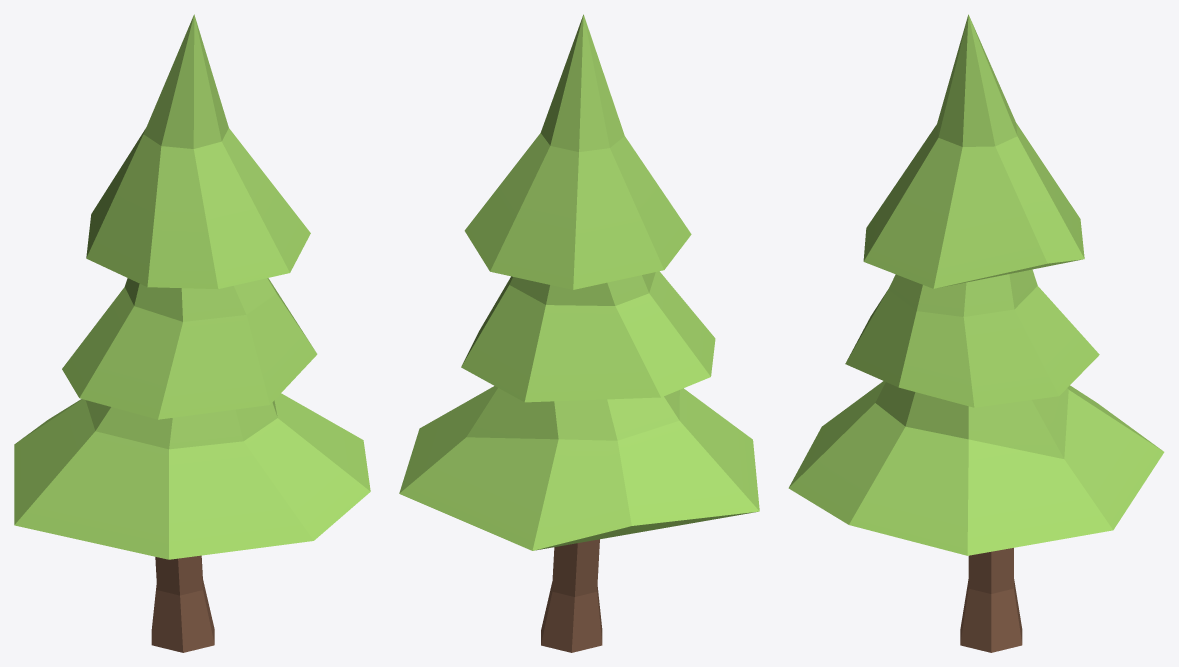
File: tree_2.FBX
The picture shows the model from 3 angles, left to right: view 1: azimuth 30°, elevation 25°; view 2: azimuth 150°, elevation 25°; view 3: azimuth 270°, elevation 25°; orthographic projection. The views are drawn at different scales.
Visible parts, largest first — view 1: tree_2; view 2: tree_2; view 3: tree_2.
Part boxes in pixels (x1,y1,x2,y2): tree_2: [14, 14, 370, 652]; tree_2: [399, 14, 759, 652]; tree_2: [788, 14, 1164, 652].
Size of the model in its own units: 106 by 184 by 101.
